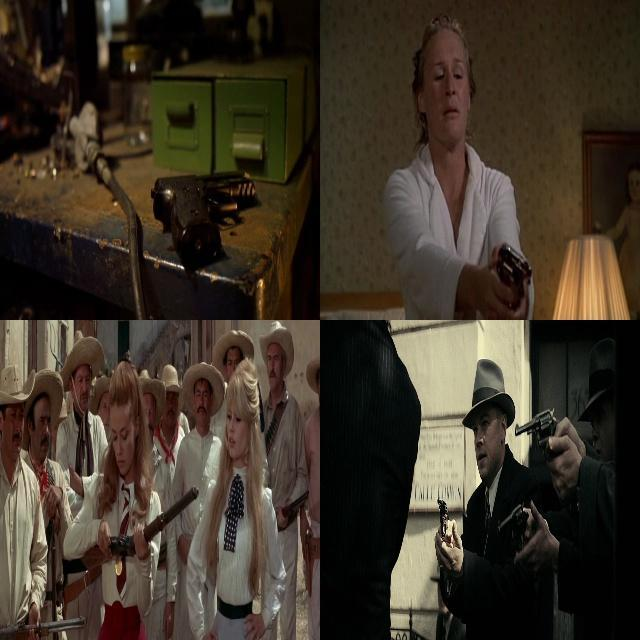gun-knife-thesis - v11 Yolov5 augmented: (71, 459, 205, 586), (144, 153, 258, 283), (504, 387, 567, 485), (425, 474, 457, 582), (484, 241, 534, 305)
